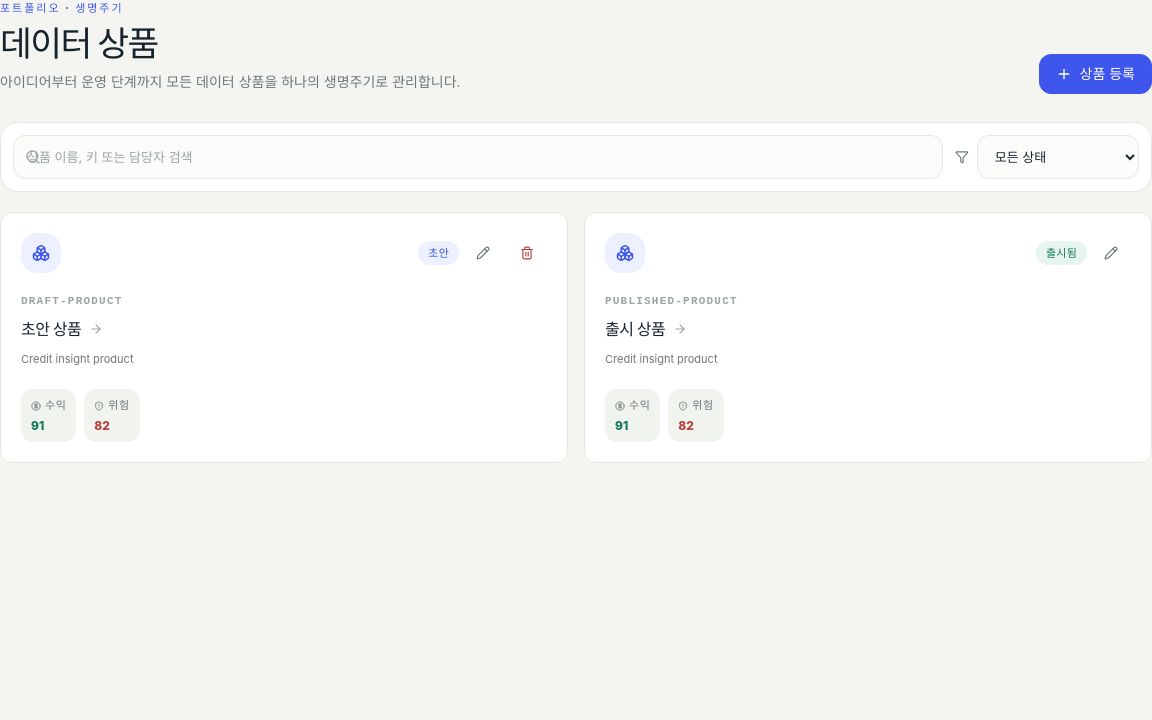
Test case: ProductsPage management controls › shows create/edit for writers and only hard-deletes draft or archived products
Check: the heading "초안 상품" is shown, box [21,319,103,339]
Check: the button named "초안 상품 수정" is shown, box [463,233,503,273]
Click the button "상품 등록" at [1095, 74], box [1038,54,1151,94]
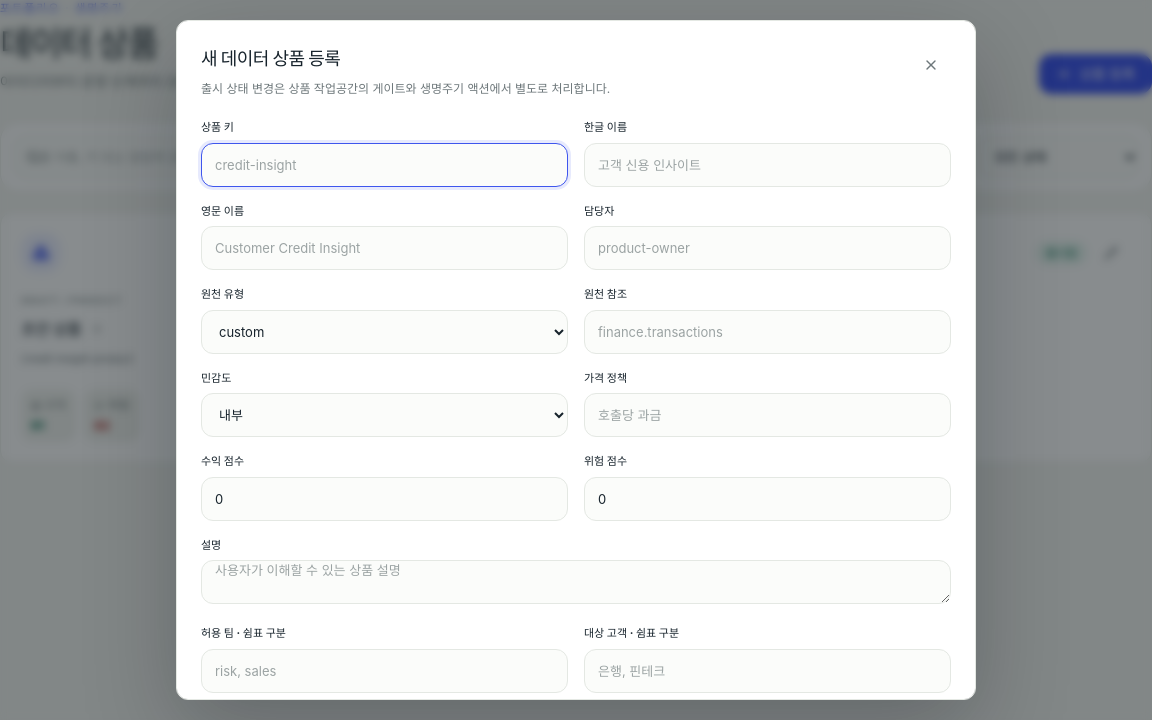
Check: the dialog "새 데이터 상품 등록" is shown
